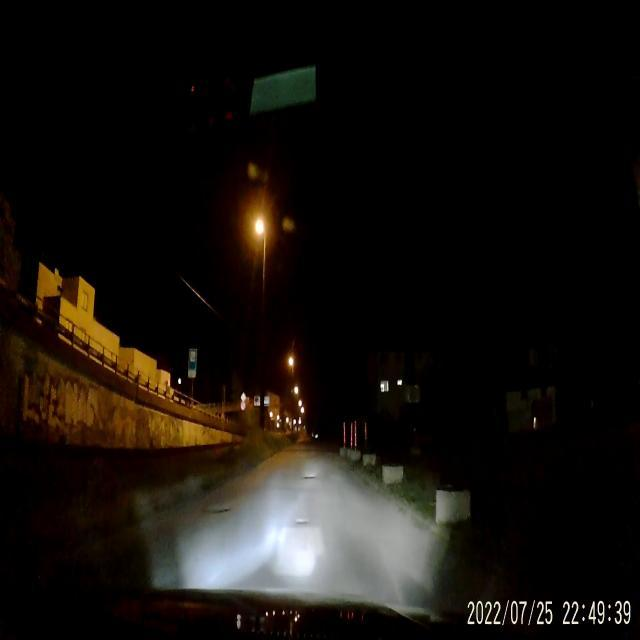Pothole: (202, 500, 234, 518), (293, 516, 310, 526), (302, 471, 318, 481)
